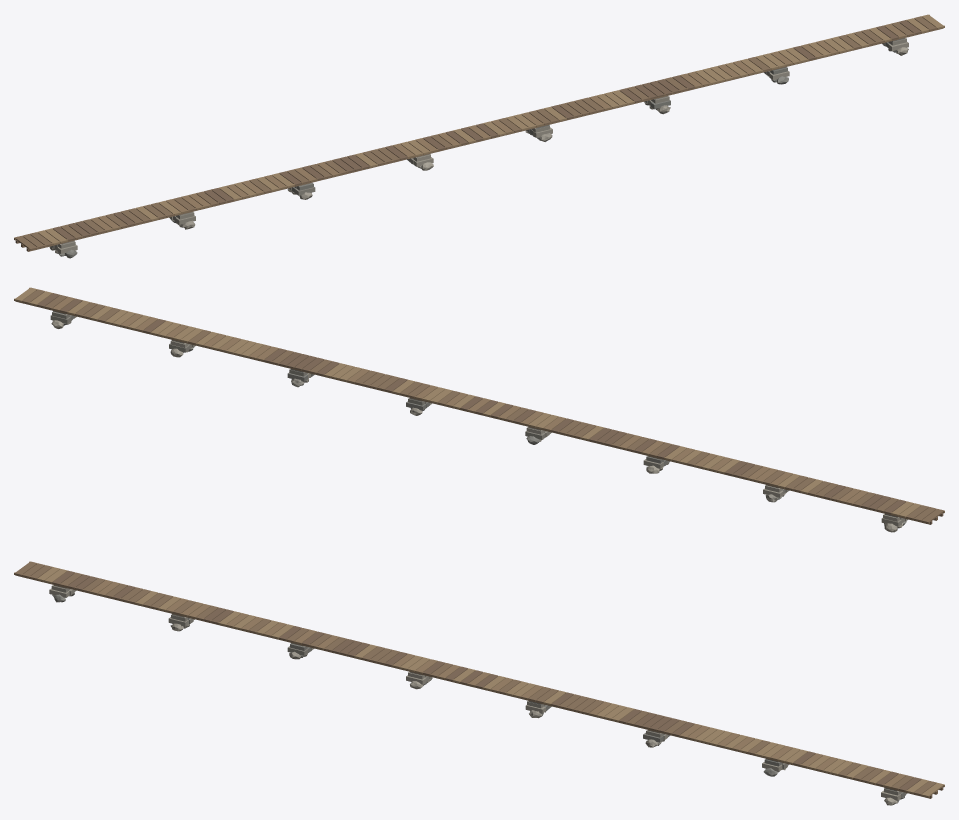
3 renders of one model, top to bottom at view 1: azimuth 30°, elevation 25°; view 2: azimuth 150°, elevation 25°; view 3: azimuth 330°, elevation 25°, orthographic.
Parts seen in each view (by area): view 1: world; view 2: world; view 3: world.
Boxes of the visible parts, x1,y1,x2,y2 form: world: (14,14,944,258); world: (14,287,944,532); world: (14,561,944,805).
Bounding box in the file's own units: 109 × 2.39 × 3.5.
